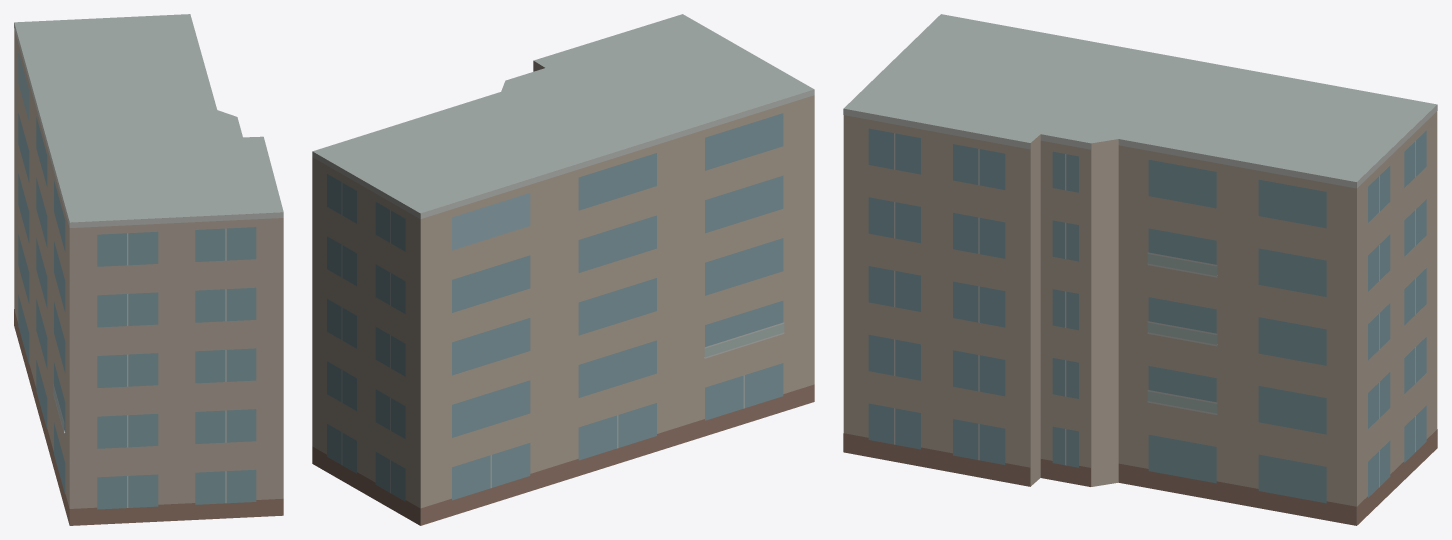
File: survey-upis-32532608.glb
3 views of the same model, side by side, from view 1: azimuth 30°, elevation 25°; view 2: azimuth 150°, elevation 25°; view 3: azimuth 270°, elevation 25° (orthographic). The views are drawn at different scales.
Visible parts, largest first — view 1: survey-upis-32532608.tmp; view 2: survey-upis-32532608.tmp; view 3: survey-upis-32532608.tmp.
Part boxes in pixels (<box>): survey-upis-32532608.tmp: <box>14,14,283,525</box>; survey-upis-32532608.tmp: <box>312,14,814,525</box>; survey-upis-32532608.tmp: <box>843,14,1437,525</box>.
Bounding box in the file's own units: 13.86 × 13.2 × 20.68.
